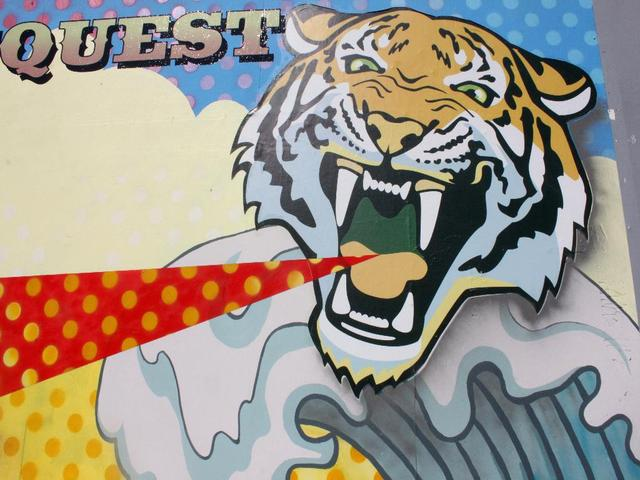tiger: (200, 15, 617, 366)
